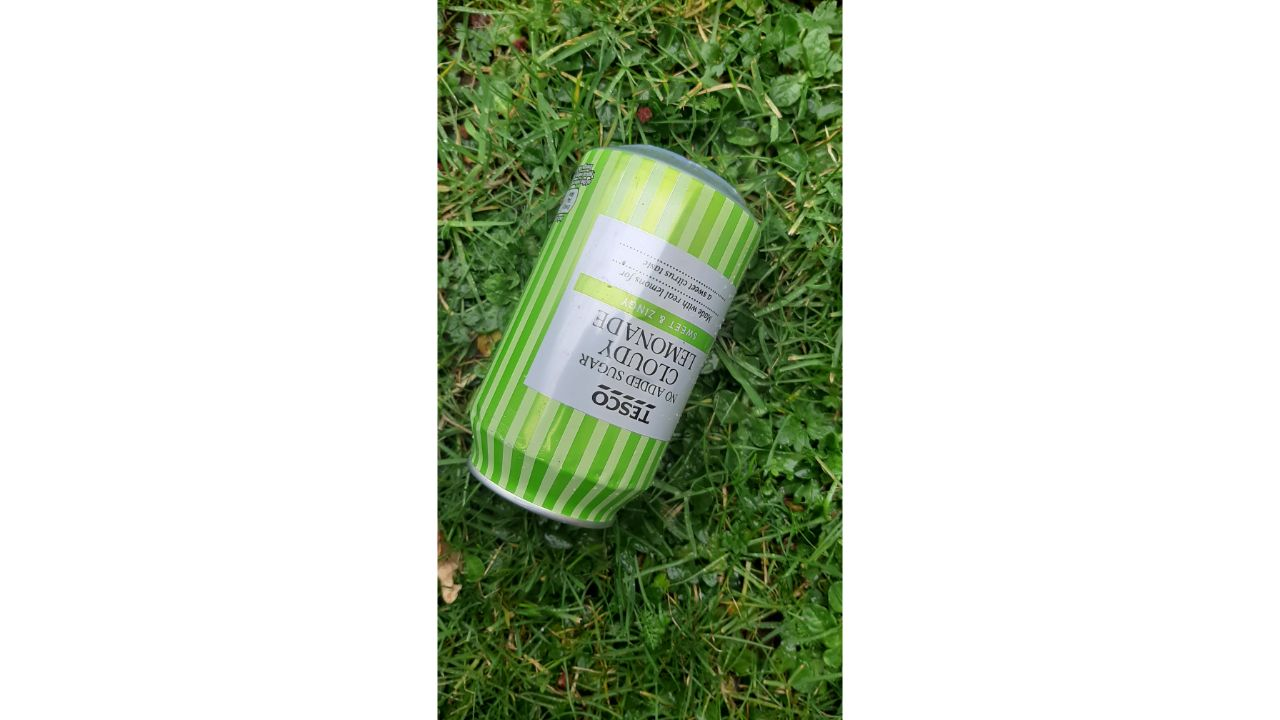Can: (458, 125, 776, 552)
